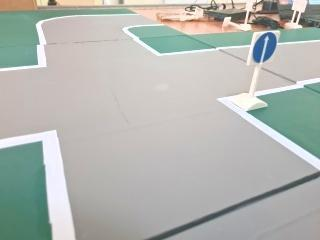straight: (249, 30, 283, 65)
